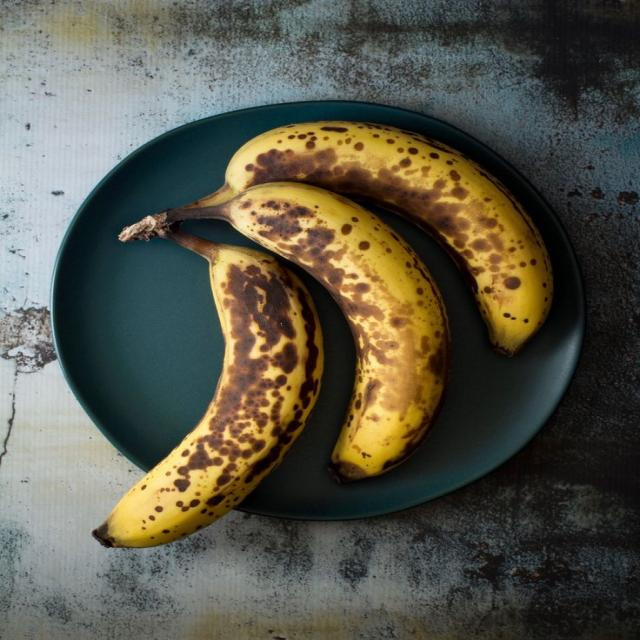unpeal banana: (120, 183, 450, 481), (201, 121, 553, 355), (94, 230, 323, 547)
